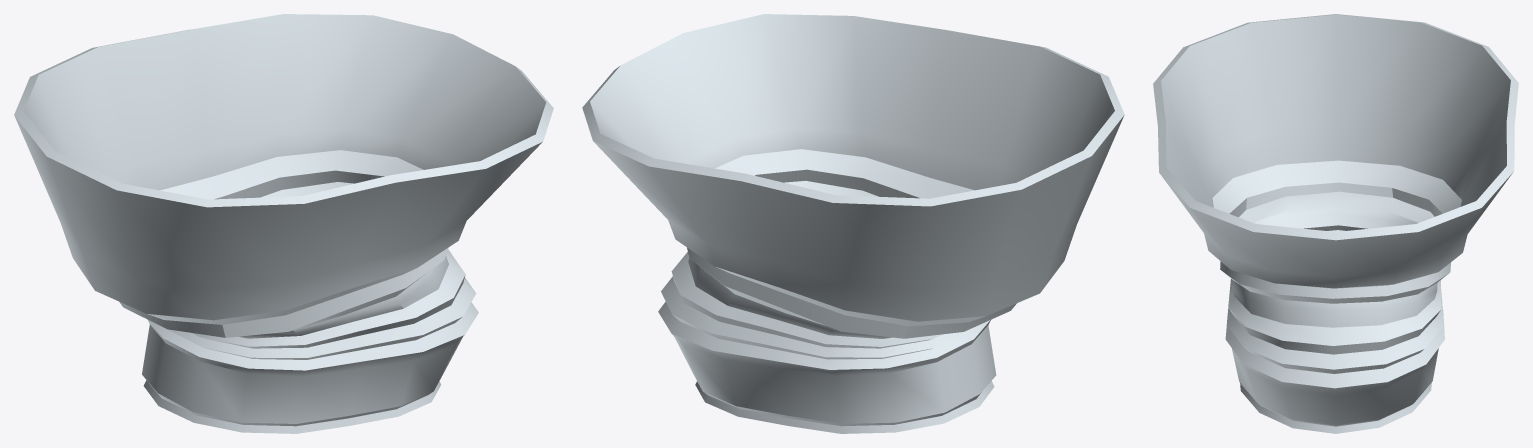
Rendered from VasoPlastico_05.fbx.
3 renders of one model, left to right at view 1: azimuth 30°, elevation 25°; view 2: azimuth 150°, elevation 25°; view 3: azimuth 270°, elevation 25°, orthographic. The views are drawn at different scales.
Parts seen in each view (by area): view 1: VasoPlastico_05; view 2: VasoPlastico_05; view 3: VasoPlastico_05.
Boxes of the visible parts, left/top/right/bottom form: VasoPlastico_05: left=14, top=14, right=553, bottom=433; VasoPlastico_05: left=582, top=14, right=1124, bottom=433; VasoPlastico_05: left=1153, top=14, right=1518, bottom=433.
Size of the model in its own units: 28.25 by 17.48 by 21.84.
